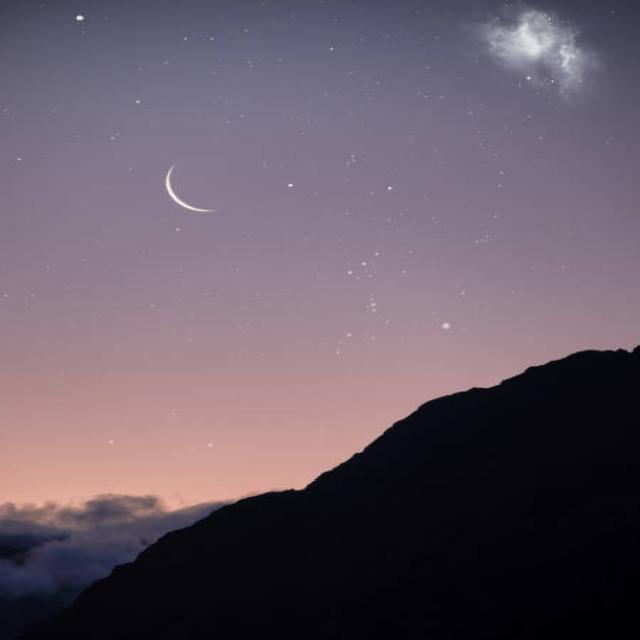moon: (166, 135, 251, 215)
